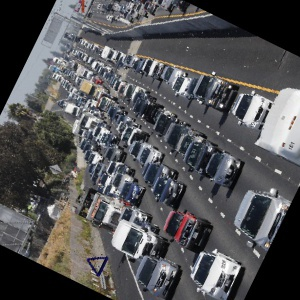triangle: (85, 252, 109, 278)
